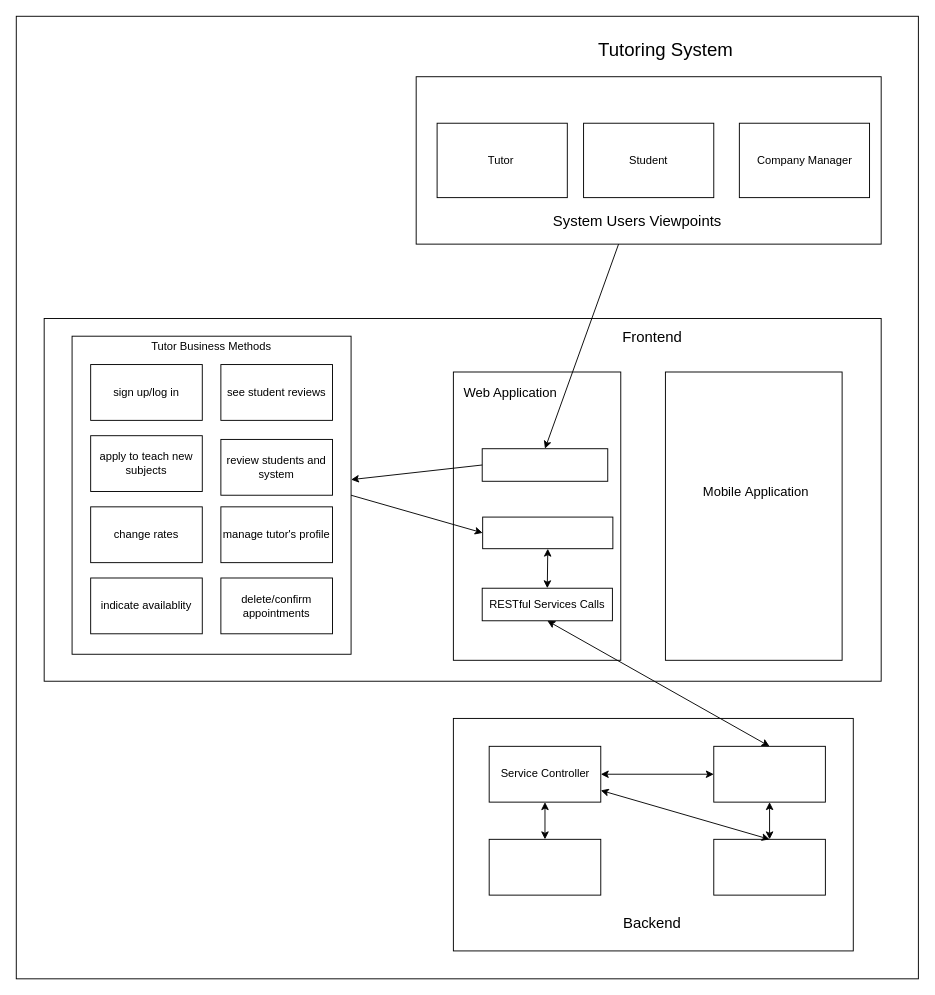
Some shapes in this 935 by 995 pixel diagram are drawn without their labels. The shapes that lost their labels are listed below. From the top down, each one's box as (x1, y1, x2, y2) in pixels, then its label:
(481, 448, 608, 481): Graphical User Interface
(482, 516, 613, 549): Controller
(664, 371, 842, 660): (To be implemented)
(713, 745, 825, 802): RESTful API Controller
(488, 838, 601, 895): Data Persistance Layer
(713, 838, 825, 895): Model
